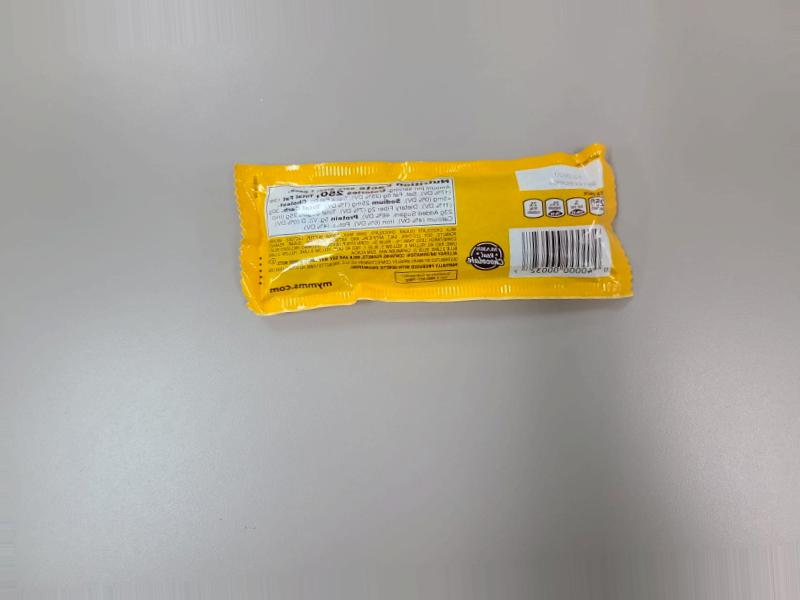m&m: (227, 160, 615, 319)
